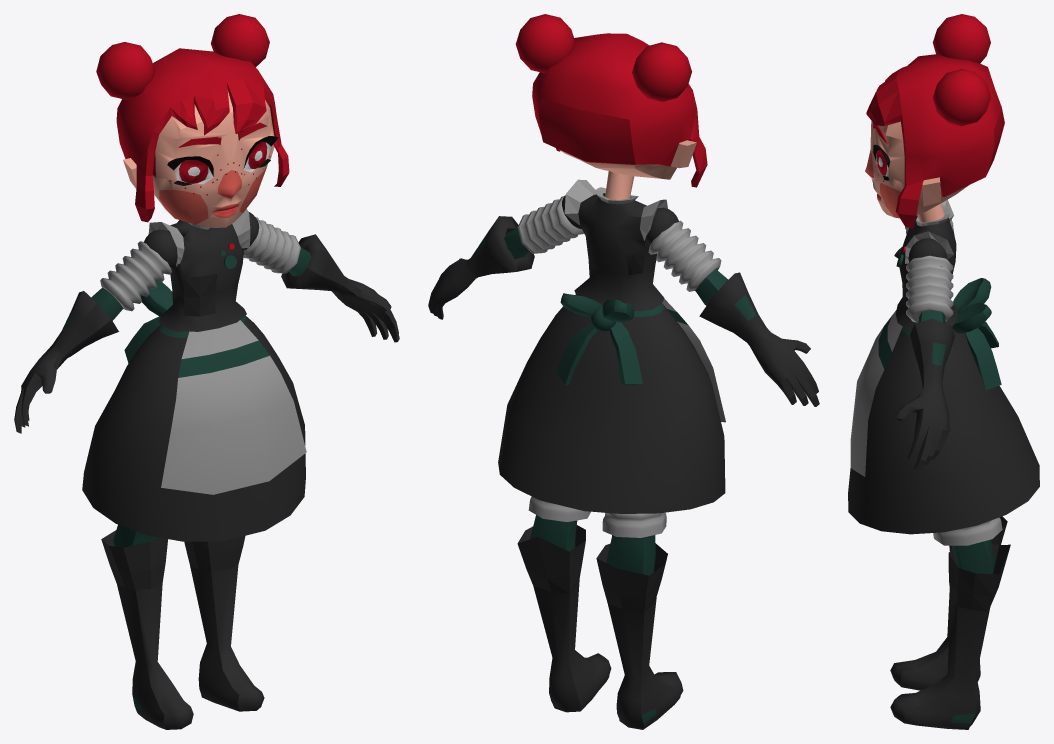
Rendered from fixed_penelope.fbx.
The picture shows the model from 3 angles, left to right: view 1: azimuth 30°, elevation 25°; view 2: azimuth 150°, elevation 25°; view 3: azimuth 270°, elevation 25°; orthographic projection. The views are drawn at different scales.
Parts seen in each view (by area): view 1: Penelope; view 2: Penelope; view 3: Penelope.
Boxes of the visible parts, bbox=[...] form: Penelope: bbox=[14, 14, 399, 729]; Penelope: bbox=[428, 14, 819, 729]; Penelope: bbox=[848, 14, 1039, 729].
Size of the model in its own units: 21633 by 36530 by 9548.
